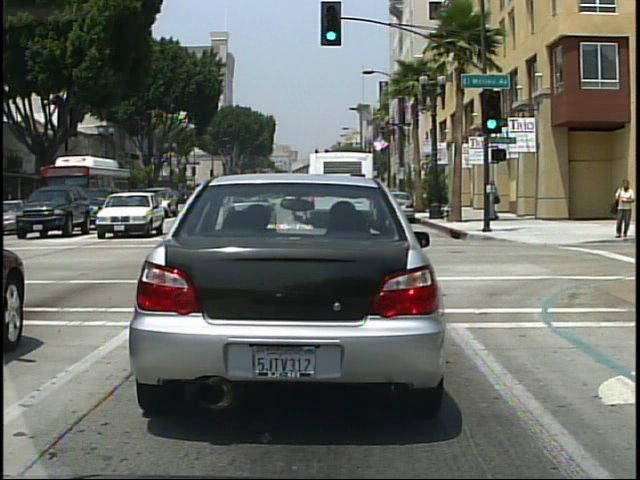person: (608, 179, 637, 241), (490, 180, 501, 225)
